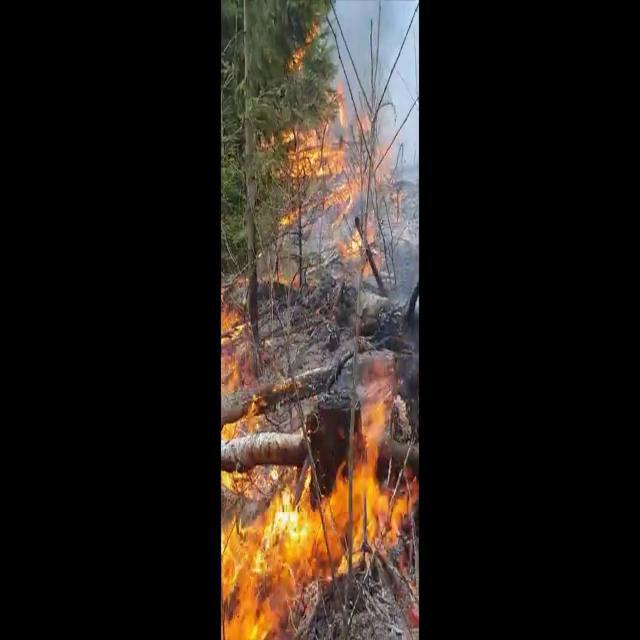Fire: (224, 366, 416, 629), (266, 92, 384, 286)
